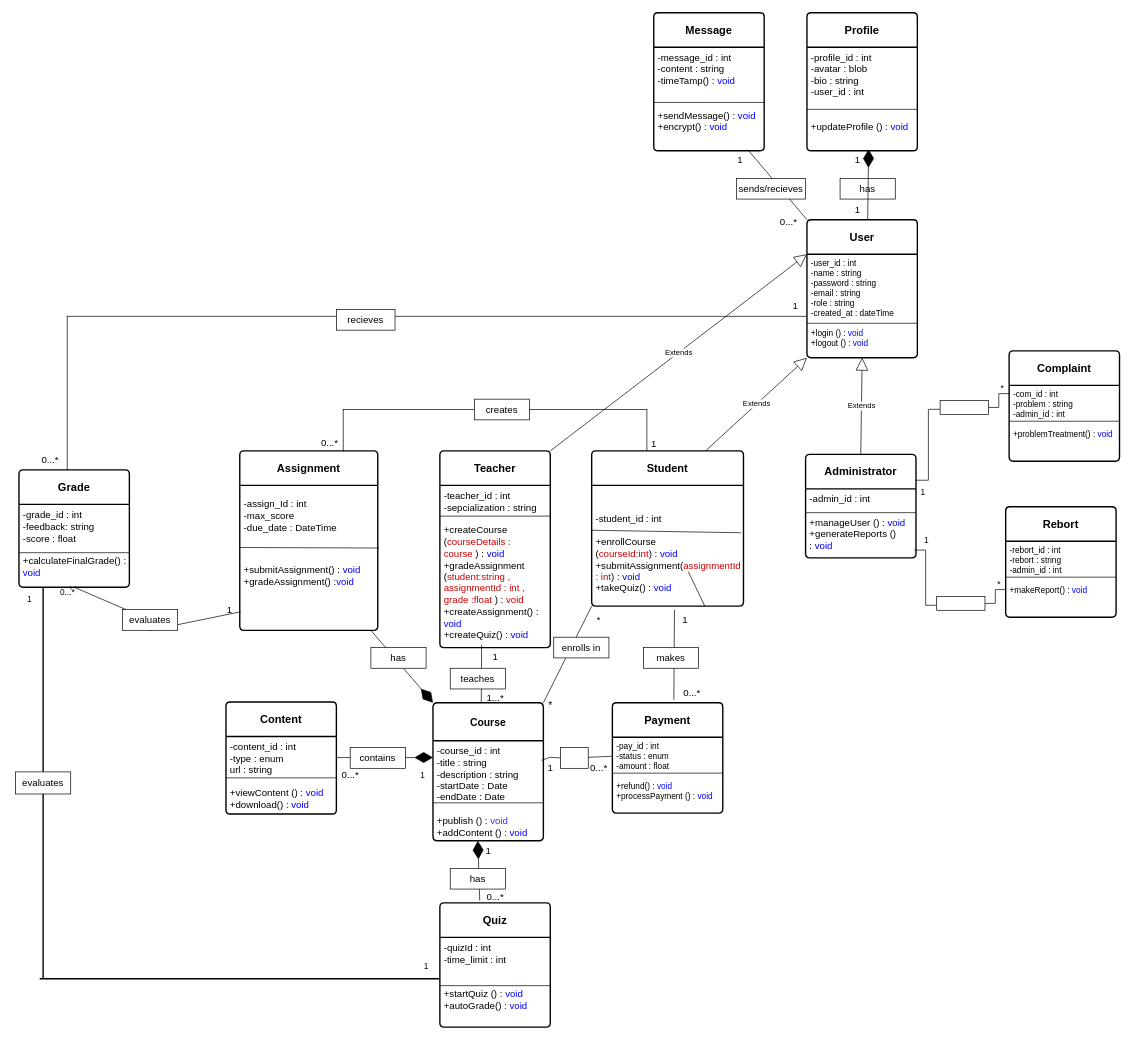
Some shapes in this 1132 by 1039 pixel diagram are drawn without their labels. The centre of each missing label's shape, as x and y in pixels:
for: pixel 574 757
make: pixel 960 603
treat: pixel 963 407
